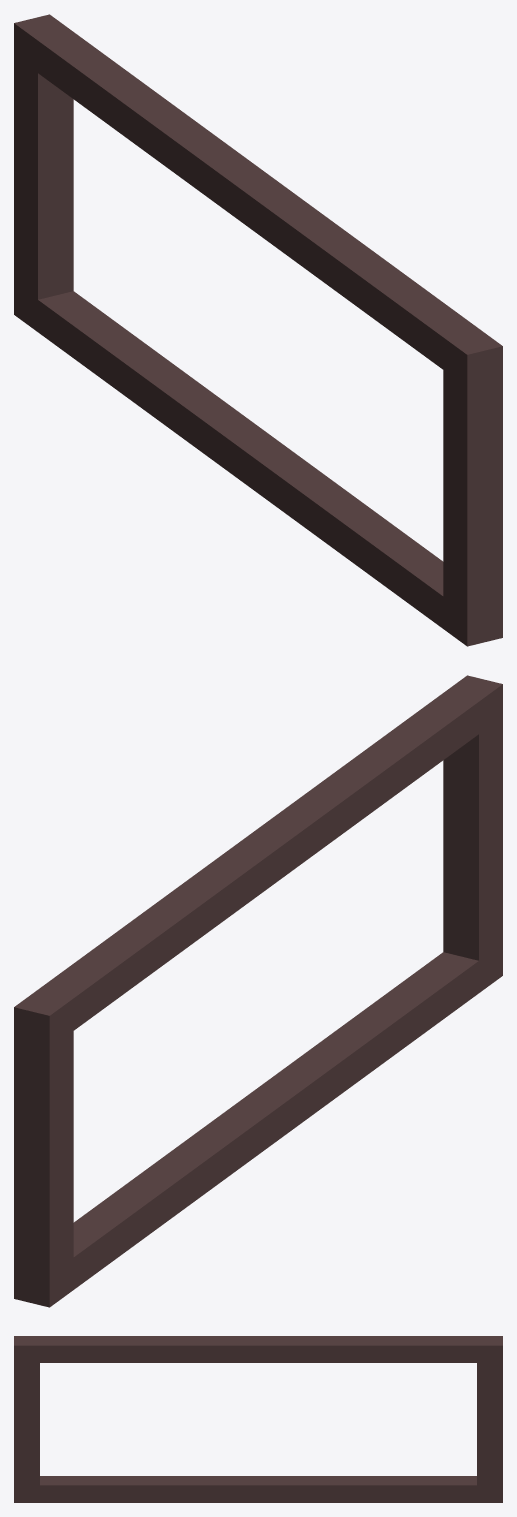
File: builder_54.FBX
The picture shows the model from 3 angles, top to bottom: view 1: azimuth 30°, elevation 25°; view 2: azimuth 150°, elevation 25°; view 3: azimuth 270°, elevation 25°; orthographic projection. The views are drawn at different scales.
Parts seen in each view (by area): view 1: builder_54; view 2: builder_54; view 3: builder_54.
Boxes of the visible parts, box(x1,y1,x2,y2) form: builder_54: box(14, 14, 502, 646); builder_54: box(14, 675, 502, 1307); builder_54: box(14, 1336, 502, 1502).
Size of the model in its own units: 2.06 by 16.11 by 45.39.
